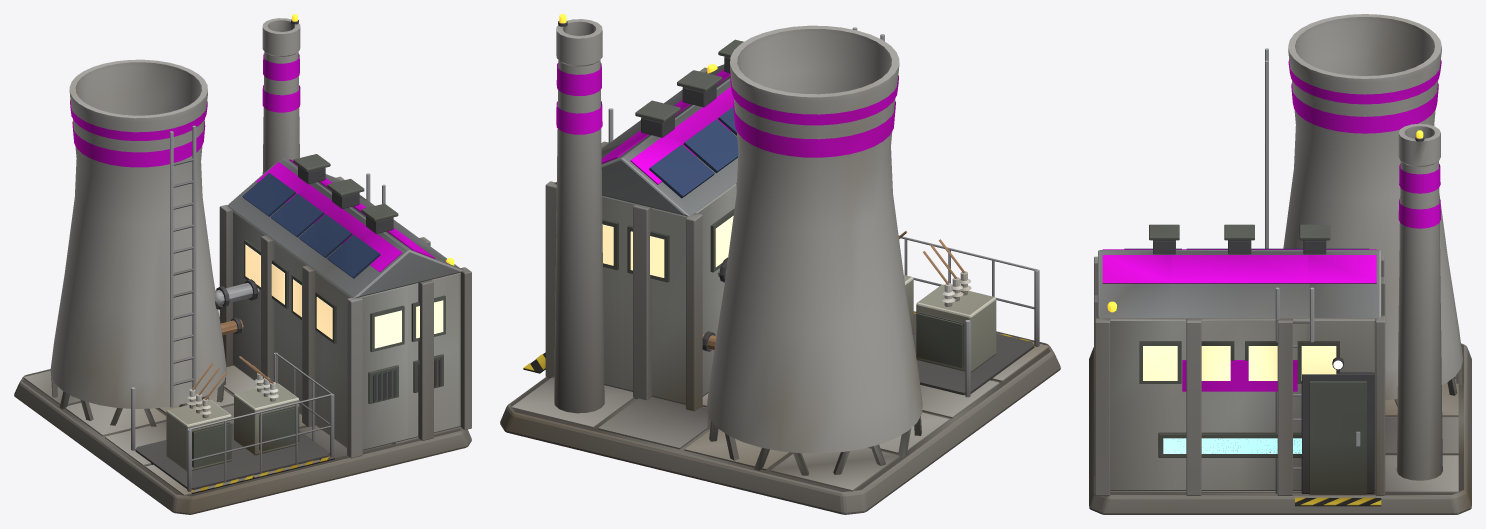
The model's file is power_plant.glb.
The picture shows the model from 3 angles, left to right: view 1: azimuth 30°, elevation 25°; view 2: azimuth 150°, elevation 25°; view 3: azimuth 270°, elevation 25°; orthographic projection. The views are drawn at different scales.
Visible parts, largest first — view 1: Body; view 2: Body; view 3: Body.
Part boxes in pixels (box(x1,y1,x2,y2)): Body: box(14, 14, 471, 514); Body: box(500, 14, 1060, 514); Body: box(1089, 14, 1471, 514).
Size of the model in its own units: 4.18 by 4.21 by 3.98.
1 material, 1 textured.
